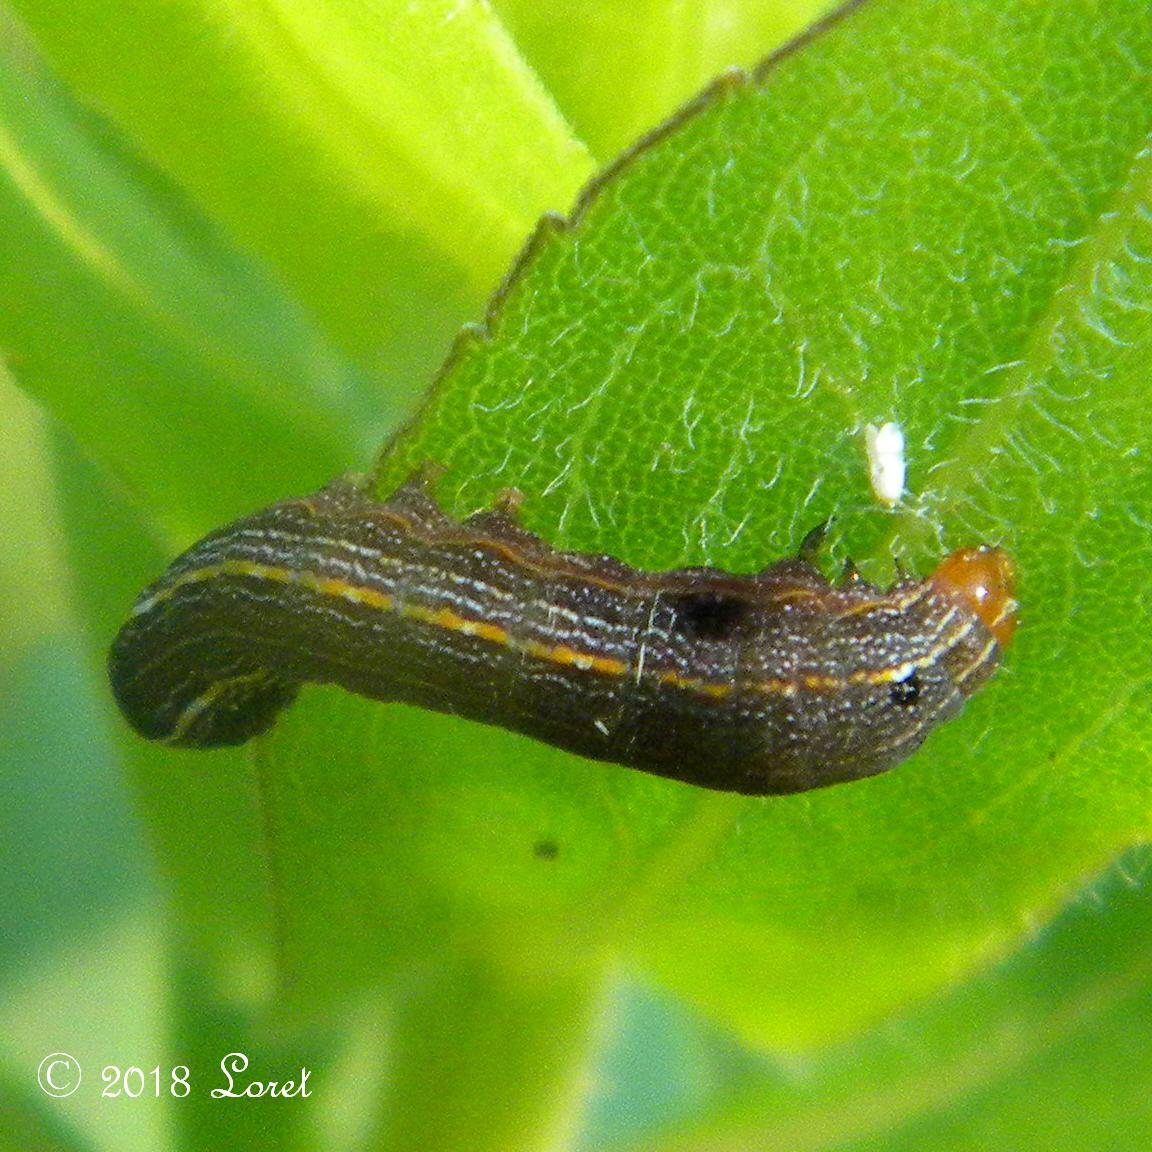Armyworm: (45, 456, 1083, 799)
